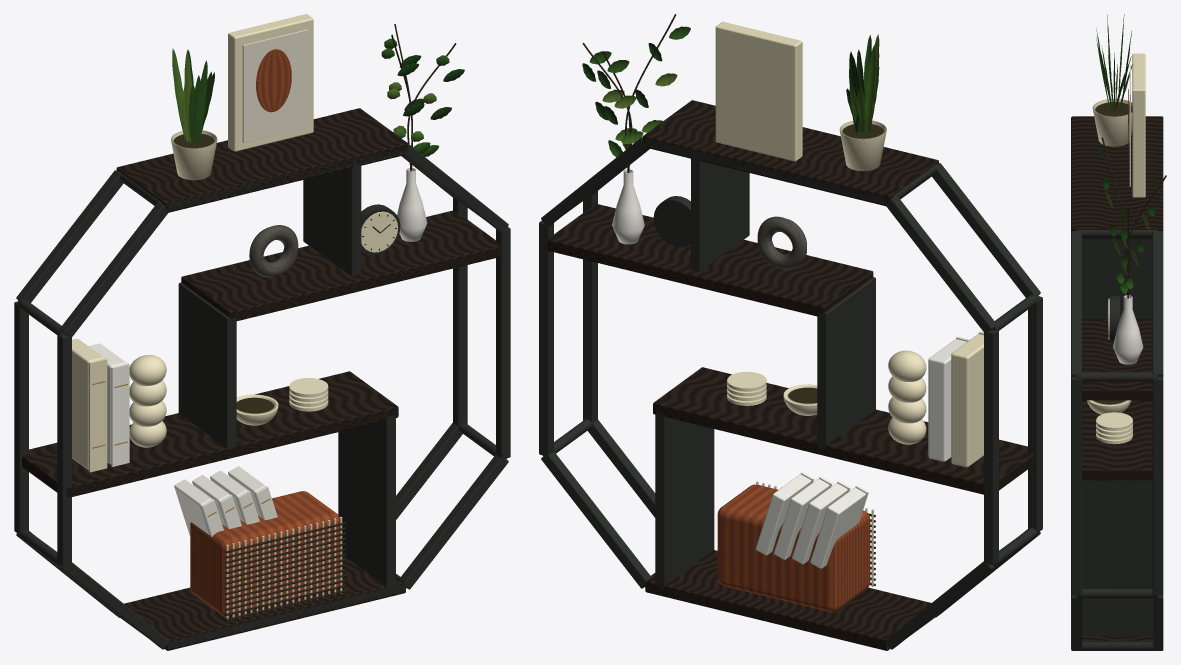
File: 11-octagonal-display-shelf.glb
3 renders of one model, left to right at view 1: azimuth 30°, elevation 25°; view 2: azimuth 150°, elevation 25°; view 3: azimuth 270°, elevation 25°, orthographic. The views are drawn at different scales.
Parts seen in each view (by area): view 1: Charcoal steel, Dark walnut, Cream ceramic, Terracotta, Ivory painted wood, Woven brown rattan, Book pages, Gray stone ceramic, Leaf green 1, Leaf green 4, Potting soil, Leaf green 2 (+1 smaller); view 2: Charcoal steel, Dark walnut, Cream ceramic, Ivory painted wood, Terracotta, Gray stone ceramic, Leaf green 2, Leaf green 1, Leaf green 4, Leaf green 0, Woven brown rattan, Potting soil; view 3: Charcoal steel, Dark walnut, Cream ceramic, Ivory painted wood, Leaf green 1, Woven brown rattan, Potting soil, Leaf green 0, Leaf green 3, Leaf green 2, Leaf green 4, Book pages.
Part boxes in pixels (left/top/right/bottom): Charcoal steel: left=14, top=144, right=510, bottom=649; Dark walnut: left=22, top=108, right=502, bottom=650; Cream ceramic: left=72, top=14, right=397, bottom=621; Terracotta: left=190, top=49, right=339, bottom=616; Ivory painted wood: left=89, top=168, right=427, bottom=536; Woven brown rattan: left=225, top=24, right=456, bottom=621; Book pages: left=242, top=29, right=308, bottom=142; Gray stone ceramic: left=249, top=225, right=298, bottom=277; Leaf green 1: left=189, top=38, right=449, bottom=156; Leaf green 4: left=181, top=51, right=436, bottom=143; Potting soil: left=173, top=133, right=273, bottom=413; Leaf green 2: left=172, top=48, right=423, bottom=141; Charcoal steel: left=539, top=136, right=1042, bottom=649; Dark walnut: left=547, top=100, right=1034, bottom=650; Cream ceramic: left=715, top=21, right=983, bottom=586; Ivory painted wood: left=612, top=169, right=969, bottom=568; Terracotta: left=717, top=484, right=870, bottom=612; Gray stone ceramic: left=757, top=216, right=806, bottom=269; Leaf green 2: left=615, top=44, right=875, bottom=144; Leaf green 1: left=589, top=26, right=879, bottom=157; Leaf green 4: left=602, top=34, right=879, bottom=133; Leaf green 0: left=582, top=43, right=862, bottom=133; Woven brown rattan: left=582, top=14, right=875, bottom=585; Potting soil: left=788, top=124, right=884, bottom=403; Charcoal steel: left=1071, top=230, right=1163, bottom=650; Dark walnut: left=1071, top=116, right=1163, bottom=650; Cream ceramic: left=1087, top=53, right=1145, bottom=444; Ivory painted wood: left=1113, top=295, right=1143, bottom=364; Leaf green 1: left=1096, top=28, right=1160, bottom=293; Woven brown rattan: left=1101, top=137, right=1166, bottom=298; Potting soil: left=1093, top=102, right=1132, bottom=404; Leaf green 0: left=1101, top=31, right=1155, bottom=239; Leaf green 3: left=1099, top=49, right=1144, bottom=266; Leaf green 2: left=1112, top=14, right=1138, bottom=275; Leaf green 4: left=1105, top=15, right=1149, bottom=248; Book pages: left=1129, top=64, right=1130, bottom=186.
Bounding box in the file's own units: 0.9 × 1.11 × 0.1763.
Materials: 15 (9 with a texture image).
